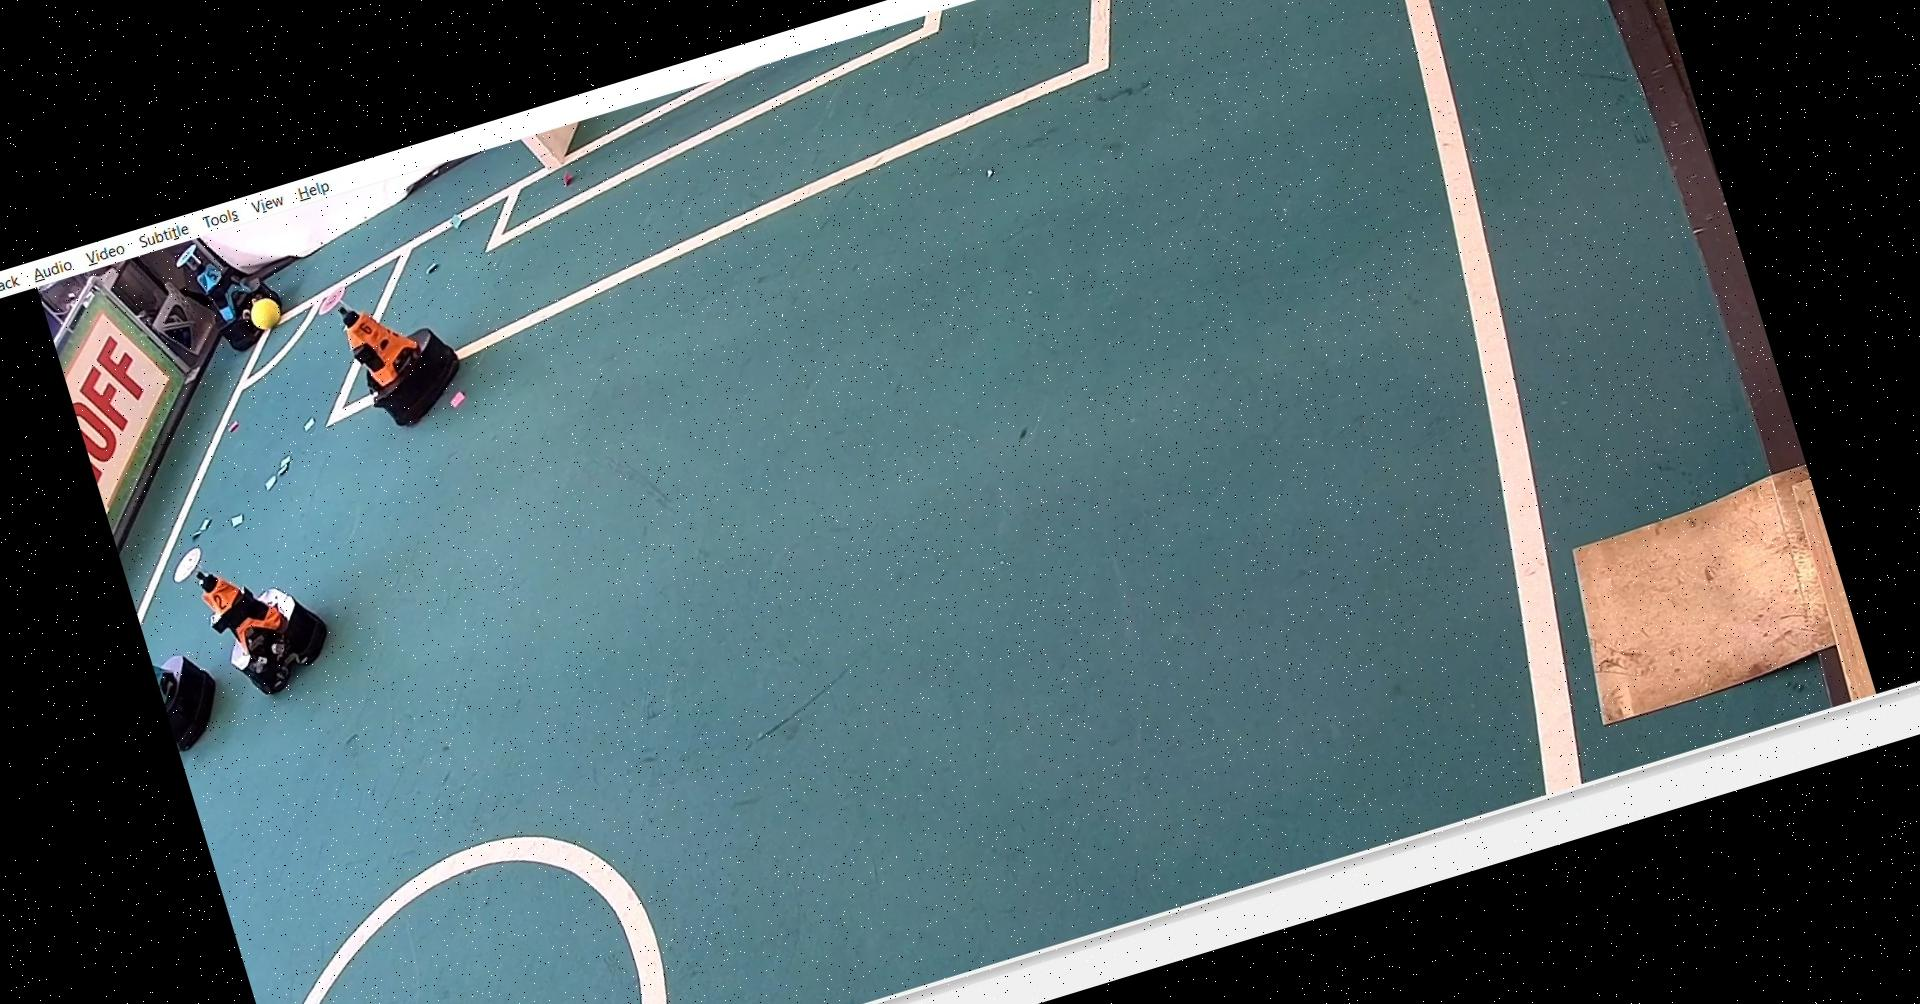Ball: (246, 291, 292, 334)
Team_Blue: (161, 221, 293, 359)
Team_Red: (168, 508, 342, 708), (311, 258, 479, 437)
